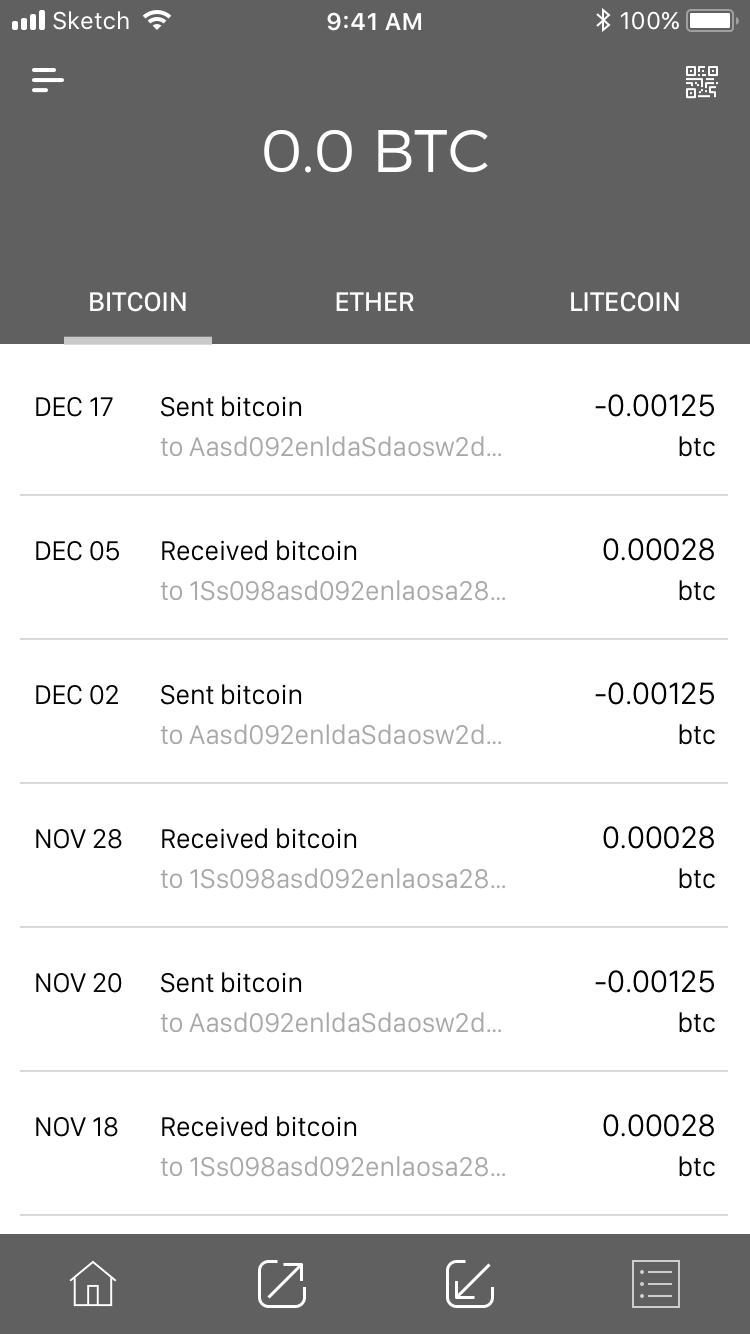Bottom_Navigation: (1, 1234, 750, 1334)
Icon: (631, 1259, 681, 1309), (258, 1259, 308, 1308), (446, 1259, 495, 1308), (70, 1260, 118, 1307), (684, 65, 721, 100), (31, 68, 67, 94)
Multi_Tab: (1, 262, 750, 346)
Text: (263, 129, 491, 176), (592, 678, 718, 746), (157, 435, 503, 459), (592, 966, 715, 1033), (160, 722, 503, 746), (601, 1109, 718, 1178), (161, 579, 510, 602), (602, 821, 718, 890), (596, 394, 717, 460), (161, 1011, 502, 1034), (600, 535, 718, 601), (161, 1155, 506, 1177), (161, 868, 507, 889), (162, 539, 357, 562), (162, 828, 357, 850), (162, 1115, 357, 1137), (161, 683, 304, 705), (161, 396, 302, 418), (162, 972, 302, 994), (571, 290, 680, 313), (90, 291, 188, 313), (36, 972, 123, 994), (35, 828, 123, 849), (35, 684, 122, 705), (36, 540, 121, 561), (36, 1116, 119, 1137), (336, 291, 415, 312), (36, 396, 115, 417)
UpperTaskBar: (1, 1, 750, 35)
